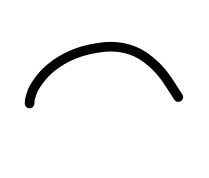n: (15, 34, 195, 114)
